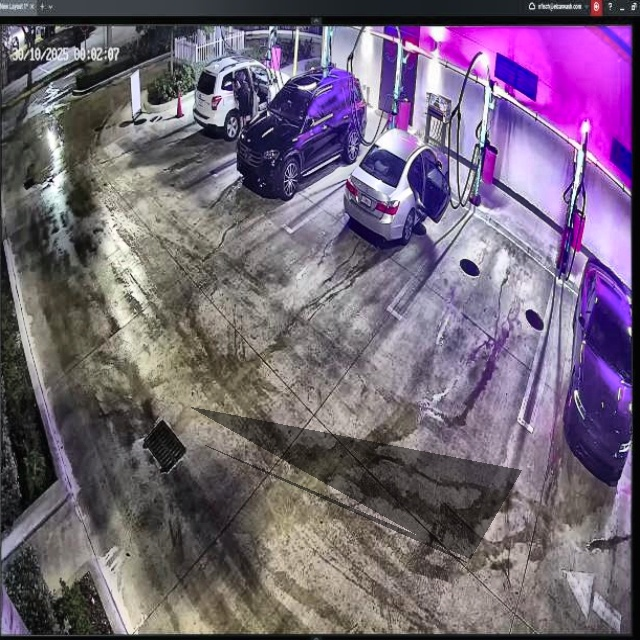Car: (239, 64, 367, 196), (344, 130, 452, 246)
